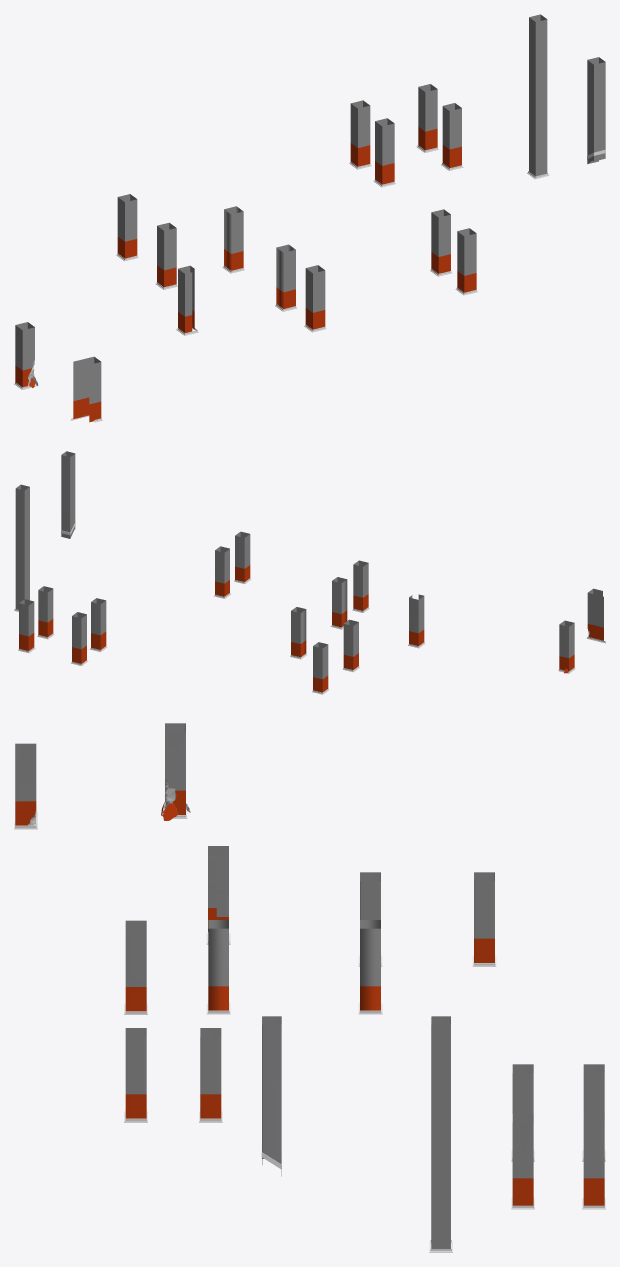
The model's file is SM_H_Building_Tide_Loungehall_21C_ATLAS.fbx.
3 renders of one model, top to bottom at view 1: azimuth 30°, elevation 25°; view 2: azimuth 150°, elevation 25°; view 3: azimuth 270°, elevation 25°, orthographic. The views are drawn at different scales.
Visible parts, largest first — view 1: SM_H_Building_Tide_Loungehall_21C_ATLAS; view 2: SM_H_Building_Tide_Loungehall_21C_ATLAS; view 3: SM_H_Building_Tide_Loungehall_21C_ATLAS.
Boxes of the visible parts, x1,y1,x2,y2 form: SM_H_Building_Tide_Loungehall_21C_ATLAS: (14,14,605,422); SM_H_Building_Tide_Loungehall_21C_ATLAS: (14,451,605,694); SM_H_Building_Tide_Loungehall_21C_ATLAS: (14,723,605,1252).
Size of the model in its own units: 5797 by 3305 by 1400.
